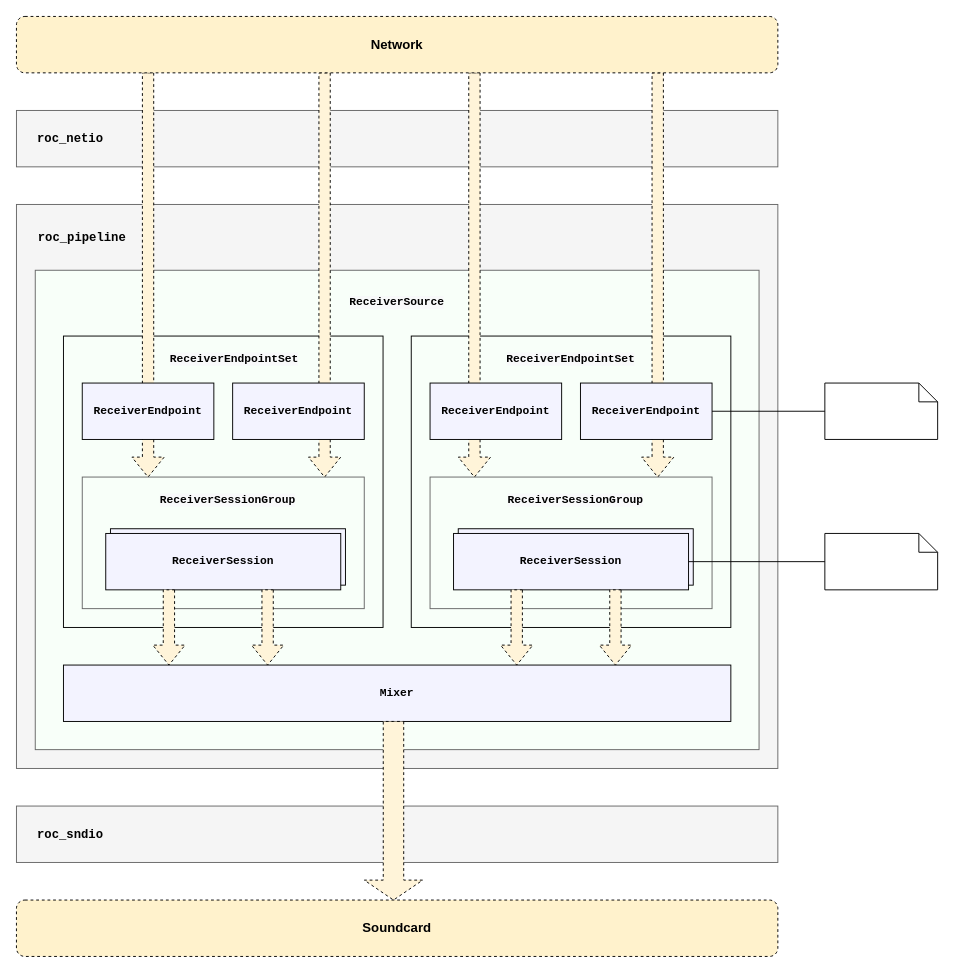
This 954x973 diagram has some shape labels left out. Each missing label, with the centre of its shape:
endpoint sub-pipeline: (881,410)
session sub-pipeline: (881,561)
